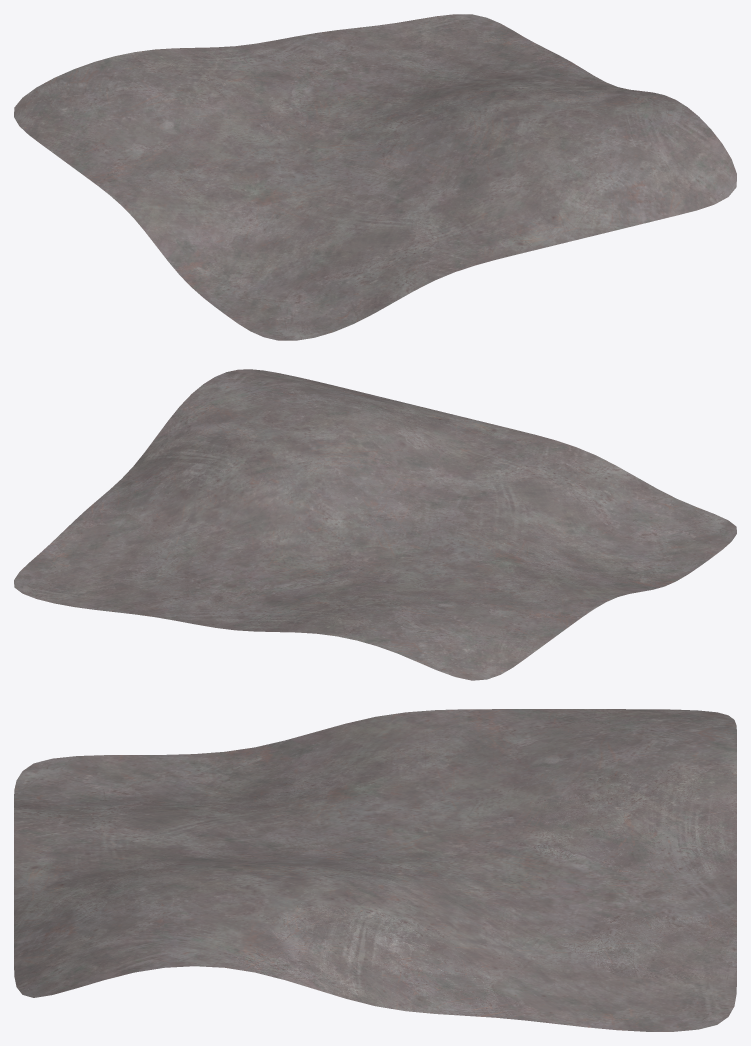
Rendered from ground.fbx.
3 renders of one model, top to bottom at view 1: azimuth 30°, elevation 25°; view 2: azimuth 150°, elevation 25°; view 3: azimuth 270°, elevation 25°, orthographic. The views are drawn at different scales.
Parts seen in each view (by area): view 1: Plane; view 2: Plane; view 3: Plane.
Part boxes in pixels (left/top/right/bottom): Plane: left=14, top=14, right=736, bottom=340; Plane: left=14, top=369, right=736, bottom=680; Plane: left=14, top=709, right=736, bottom=1031.
Size of the model in its own units: 2273 by 333 by 2273.
1 material, 1 textured.
